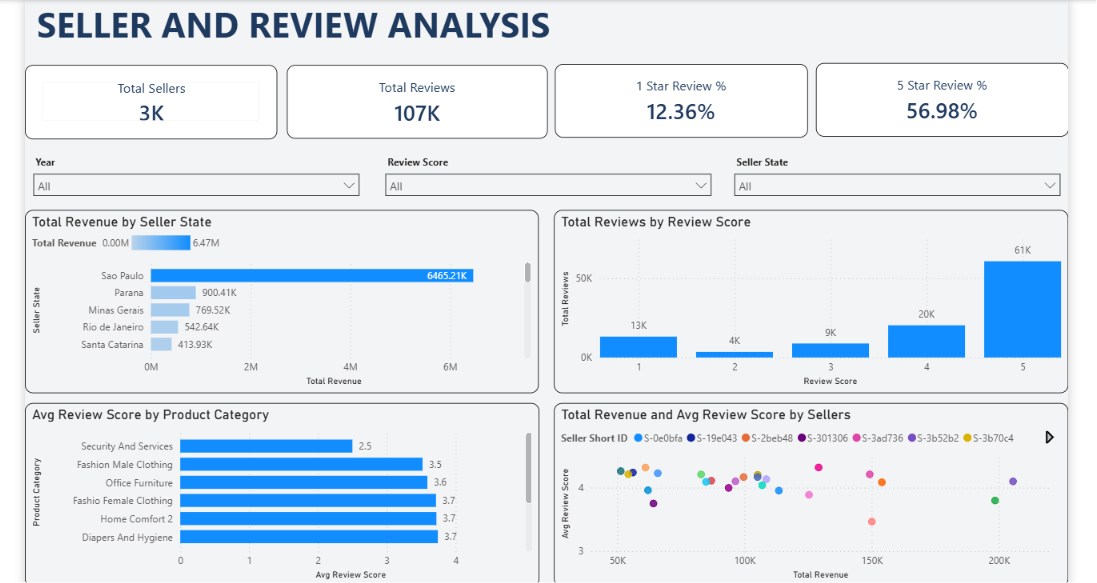

The page's visual inventory and layout, read from the dashboard file:
{"tool":"powerbi","page":{"name":"Seller & Review Analysis","canvas":[1280,720],"ordinal":3},"visuals":[{"type":"textbox","title":"SELLER AND REVIEW ANALYSIS","box":[10,0,641.9,56],"z":0},{"type":"cardVisual","fields":{"Data":["Measures Table.Total Sellers"]},"box":[0,79.6,309.7,90.8],"z":1000},{"type":"cardVisual","fields":{"Data":["Measures Table.Total Reviews"]},"box":[321.4,80,320,90],"z":2000},{"type":"cardVisual","fields":{"Data":["Measures Table.1 Star Review %"]},"box":[650,78.6,310,90],"z":3000},{"type":"cardVisual","fields":{"Data":["Measures Table.5 Star Review %"]},"box":[970,77.1,310,90],"z":4000},{"type":"slicer","fields":{"Values":["Date Table.Date.Variation.Date Hierarchy.Year"]},"box":[0,185.7,420,60],"z":5000},{"type":"slicer","fields":{"Values":["Brazilian Ecommerce.Review Score"]},"box":[431.4,185.7,420,60],"z":6000},{"type":"slicer","fields":{"Values":["Brazilian Ecommerce.Seller State"]},"box":[860,185.7,420,60],"z":7000},{"type":"clusteredBarChart","title":"Total Revenue by Seller State","fields":{"Category":["Brazilian Ecommerce.Seller State"],"Y":["Measures Table.Total Revenue"]},"box":[0,257.1,630,225],"z":8000},{"type":"clusteredBarChart","title":"Avg Review Score by Product Category","fields":{"Category":["Brazilian Ecommerce.Product Category"],"Y":["Measures Table.Avg Review Score"]},"box":[0,494.3,631.4,225.7],"z":9000},{"type":"clusteredColumnChart","title":"Total Reviews by Review Score","fields":{"Category":["Brazilian Ecommerce.Review Score"],"Y":["Measures Table.Total Reviews"]},"box":[648.6,257.1,631.4,225],"z":10000},{"type":"scatterChart","title":"Total Revenue and Avg Review Score by Sellers","fields":{"X":["Measures Table.Total Revenue"],"Y":["Measures Table.Avg Review Score"],"Category":["Brazilian Ecommerce.Seller Short ID"],"Series":["Brazilian Ecommerce.Seller Short ID"]},"box":[648.6,494.3,631.4,225.7],"z":11000}]}

Visuals, with their boxes on the page's 1280x720 design canvas (x1, y1, x2, y2). These are canvas units, not pixel positions in the 1097x583 screenshot, which may show the page scaled, cropped or inside an application window:
"SELLER AND REVIEW ANALYSIS" textbox: x1=10 y1=0 x2=652 y2=56
cardVisual - Measures Table.Total Sellers: x1=0 y1=80 x2=310 y2=170
cardVisual - Measures Table.Total Reviews: x1=321 y1=80 x2=641 y2=170
cardVisual - Measures Table.1 Star Review %: x1=650 y1=79 x2=960 y2=169
cardVisual - Measures Table.5 Star Review %: x1=970 y1=77 x2=1280 y2=167
slicer - Date Table.Date.Variation.Date Hierarchy.Year: x1=0 y1=186 x2=420 y2=246
slicer - Brazilian Ecommerce.Review Score: x1=431 y1=186 x2=851 y2=246
slicer - Brazilian Ecommerce.Seller State: x1=860 y1=186 x2=1280 y2=246
"Total Revenue by Seller State" clusteredBarChart: x1=0 y1=257 x2=630 y2=482
"Avg Review Score by Product Category" clusteredBarChart: x1=0 y1=494 x2=631 y2=720
"Total Reviews by Review Score" clusteredColumnChart: x1=649 y1=257 x2=1280 y2=482
"Total Revenue and Avg Review Score by Sellers" scatterChart: x1=649 y1=494 x2=1280 y2=720
